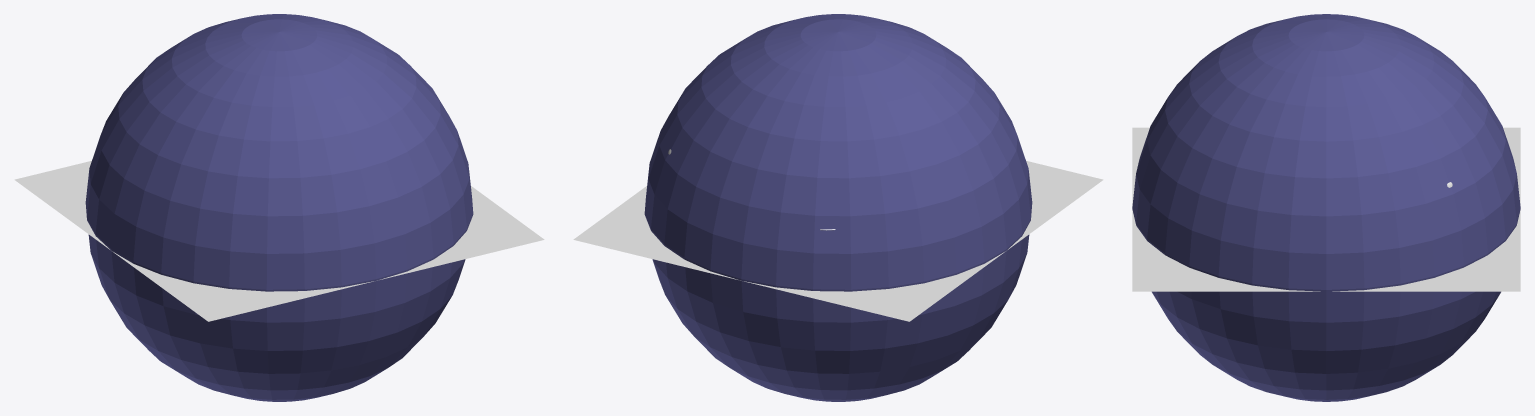
Rendered from testmap.fbx.
3 renders of one model, left to right at view 1: azimuth 30°, elevation 25°; view 2: azimuth 150°, elevation 25°; view 3: azimuth 270°, elevation 25°, orthographic.
Parts seen in each view (by area): view 1: Sky, Ground; view 2: Sky, Ground; view 3: Sky, Ground.
Part boxes in pixels (x1,y1,x2,y2): Sky: [85, 14, 473, 401]; Ground: [14, 161, 544, 321]; Sky: [644, 14, 1032, 401]; Ground: [573, 161, 1103, 321]; Sky: [1132, 14, 1520, 401]; Ground: [1132, 127, 1520, 291].
Bounding box in the file's own units: 10000 × 10000 × 10000.
